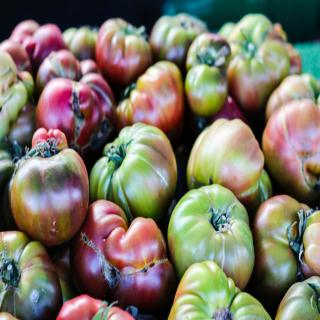tomato: (165, 181, 254, 287), (187, 117, 273, 223), (9, 140, 86, 250), (89, 123, 178, 217), (225, 13, 292, 108), (254, 195, 314, 297), (261, 96, 319, 200), (0, 231, 62, 319), (117, 57, 183, 134), (36, 76, 102, 146), (94, 16, 151, 80), (149, 11, 206, 66), (183, 59, 227, 115), (186, 31, 231, 70)
